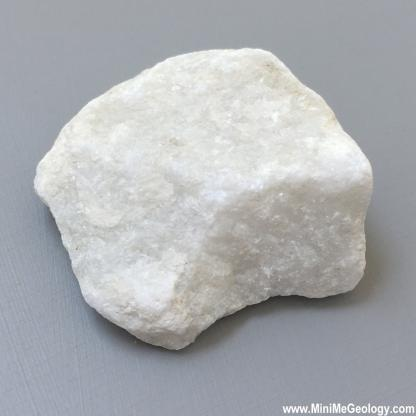Metamorphic_Marble: (29, 46, 378, 356)
